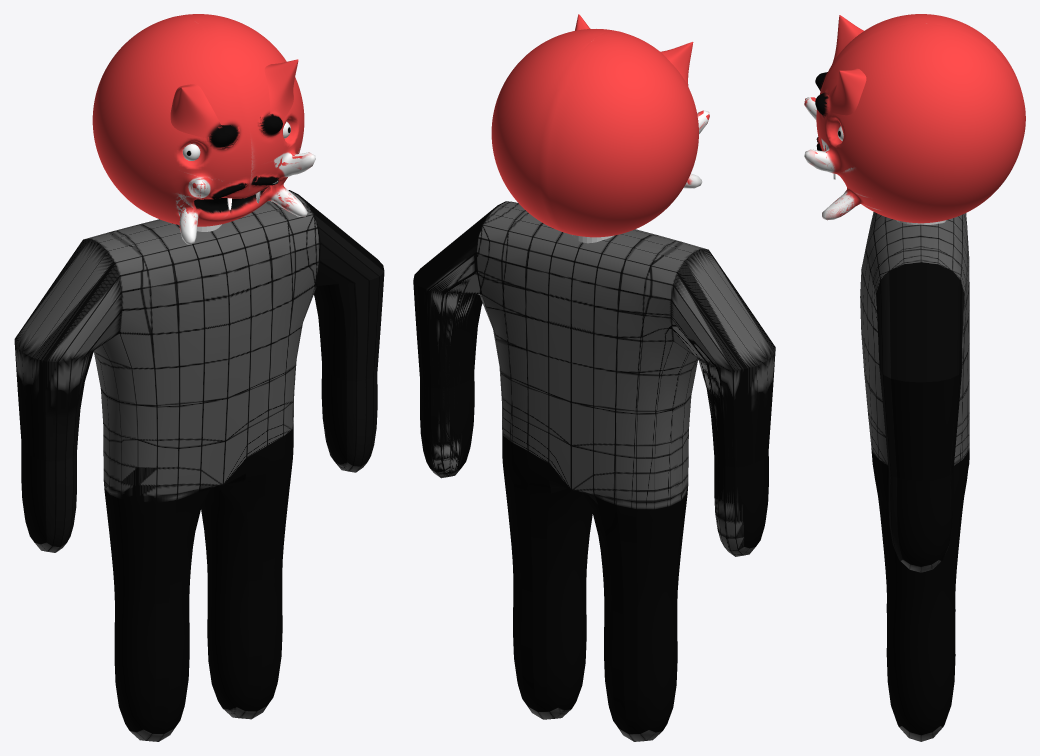
Rendered from Oni.fbx.
3 views of the same model, side by side, from view 1: azimuth 30°, elevation 25°; view 2: azimuth 150°, elevation 25°; view 3: azimuth 270°, elevation 25° (orthographic). The views are drawn at different scales.
Visible parts, largest first — view 1: Cube, Sphere; view 2: Cube, Sphere; view 3: Cube, Sphere.
Boxes of the visible parts, x1=… form: Cube: x1=14, y1=190, x2=384, y2=741; Sphere: x1=92, y1=14, x2=315, y2=244; Cube: x1=413, y1=201, x2=775, y2=741; Sphere: x1=491, y1=14, x2=709, y2=237; Cube: x1=860, y1=212, x2=969, y2=741; Sphere: x1=804, y1=14, x2=1025, y2=223.
Bounding box in the file's own units: 382 × 726 × 210.
Materials: 2 (2 with a texture image).
